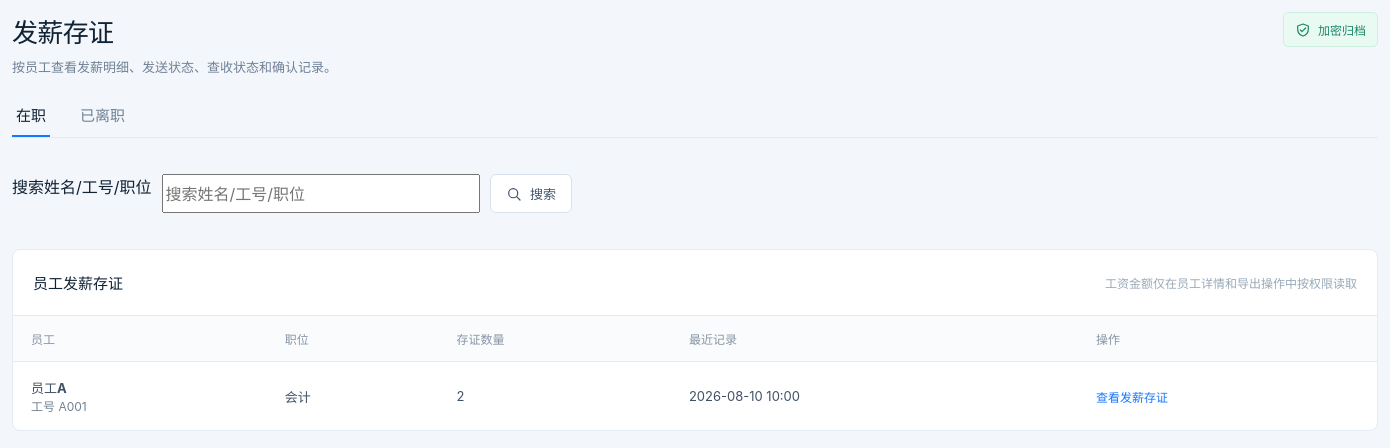
EvidenceCenter › renders the withdrawal timestamp without changing the withdrawn status
Click the button "查看发薪存证".
click(1132, 396)  # box left=1096, top=386, right=1168, bottom=406
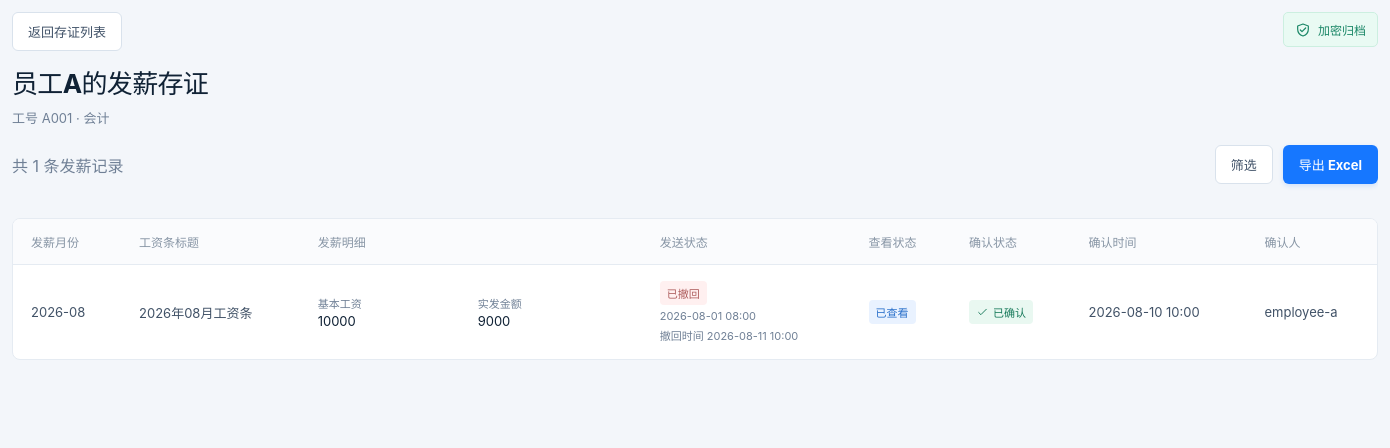
Expected: the text "已撤回" is shown, left=660, top=281, right=707, bottom=305
Expected: the text "撤回时间 2026-08-11 10:00" is shown, left=660, top=329, right=798, bottom=343
